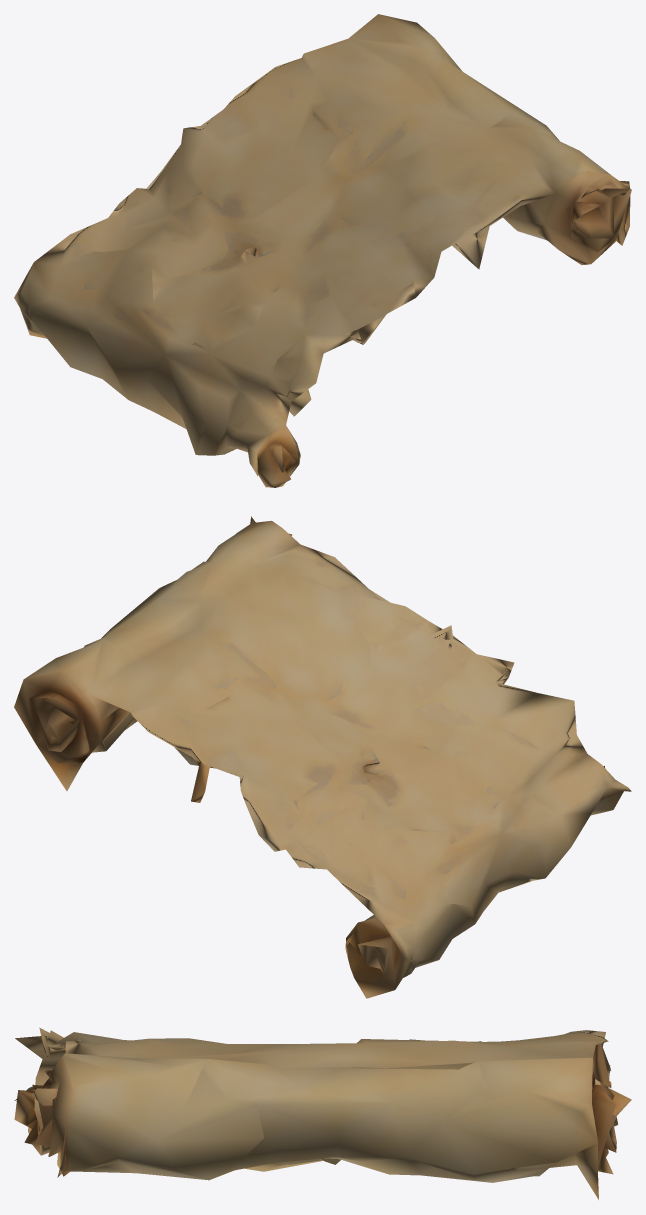
Rendered from dehydrated_roll.glb.
3 renders of one model, top to bottom at view 1: azimuth 30°, elevation 25°; view 2: azimuth 150°, elevation 25°; view 3: azimuth 270°, elevation 25°, orthographic. The views are drawn at different scales.
Parts seen in each view (by area): view 1: tripo_node_ec659e76-03e8-41d5-a8f6-97b5d10f5795; view 2: tripo_node_ec659e76-03e8-41d5-a8f6-97b5d10f5795; view 3: tripo_node_ec659e76-03e8-41d5-a8f6-97b5d10f5795.
Boxes of the visible parts, box(x1,y1,x2,y2) form: tripo_node_ec659e76-03e8-41d5-a8f6-97b5d10f5795: box(14, 14, 631, 487); tripo_node_ec659e76-03e8-41d5-a8f6-97b5d10f5795: box(14, 516, 631, 998); tripo_node_ec659e76-03e8-41d5-a8f6-97b5d10f5795: box(14, 1027, 631, 1199).
Bounding box in the file's own units: 1.6 × 0.95 × 1.7.
Materials: 1 (1 with a texture image).
